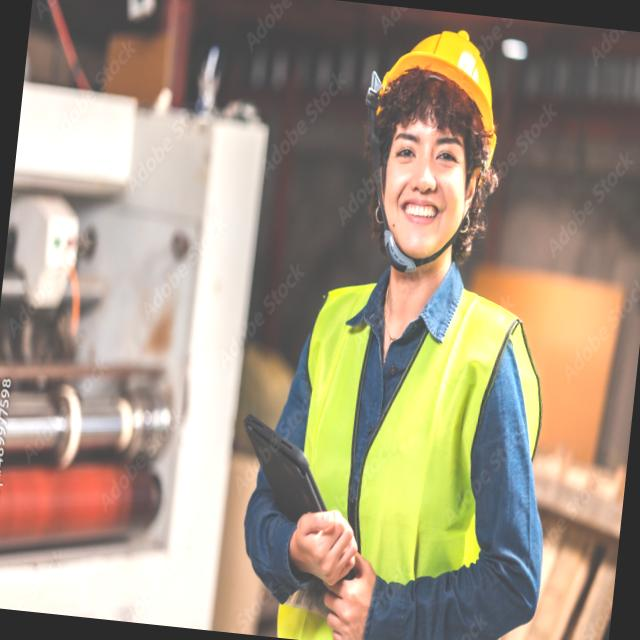helmet: (365, 17, 508, 165)
vest: (273, 266, 556, 640)
